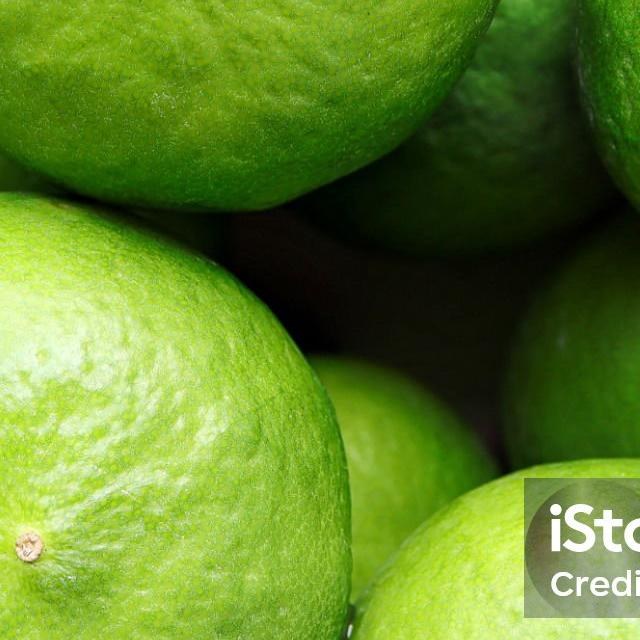lime: (0, 191, 360, 640)
